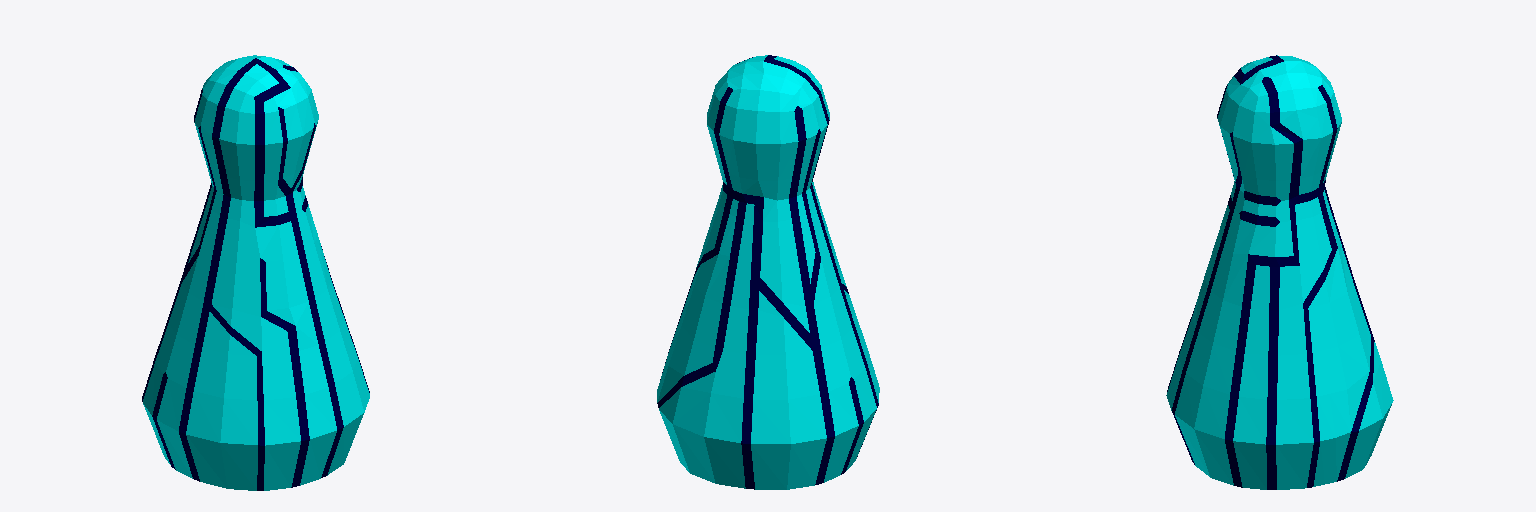
Rendered from chipblue.obj.
The picture shows the model from 3 angles: view 1: azimuth 30°, elevation 25°; view 2: azimuth 150°, elevation 25°; view 3: azimuth 270°, elevation 25°; orthographic projection.
Visible parts, largest first — view 1: Куб.010_Куб.012; view 2: Куб.010_Куб.012; view 3: Куб.010_Куб.012.
Boxes of the visible parts, <box> form: Куб.010_Куб.012: <box>142,55,369,490</box>; Куб.010_Куб.012: <box>657,55,879,489</box>; Куб.010_Куб.012: <box>1166,55,1393,489</box>.
Bounding box in the file's own units: 0.2372 × 0.4544 × 0.2388.